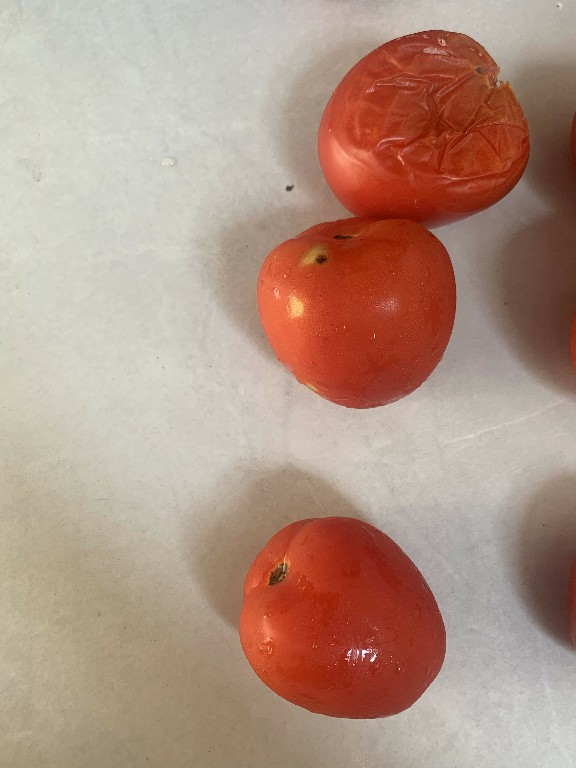NG: (245, 210, 473, 421), (302, 18, 533, 226)
OK: (221, 502, 479, 721)
